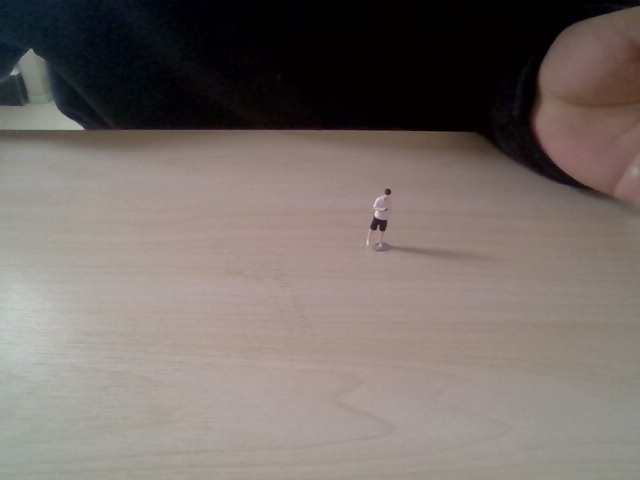walk: (360, 182, 397, 252)
